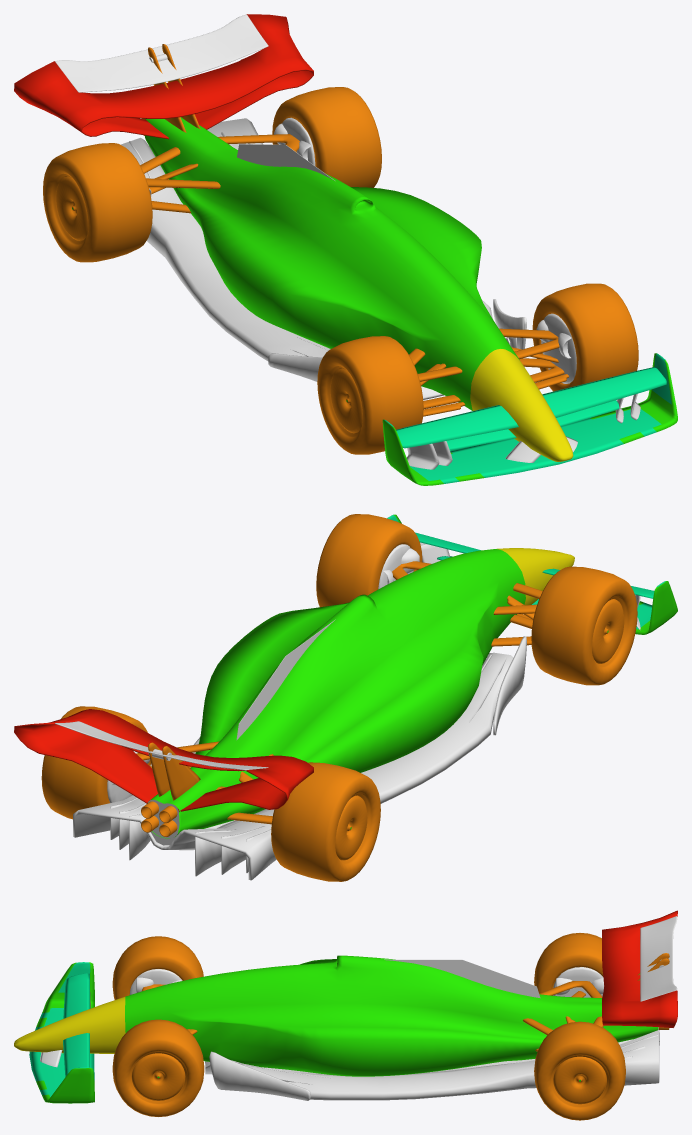
File: Light Car Blockout2 .fbx
The picture shows the model from 3 angles, top to bottom: view 1: azimuth 30°, elevation 25°; view 2: azimuth 150°, elevation 25°; view 3: azimuth 270°, elevation 25°; orthographic projection. The views are drawn at different scales.
Visible parts, largest first — view 1: Body, Wing, Rear Wheel Right, Groundforce Tunnel, Front Wheel Right, Lower wing, Rear Wheel Left, Front Wheel Left, DRS Wing, Uper Wing, Model.030, Barge Boards (+6 smaller); view 2: Body, Wing, Groundforce Tunnel, Front Wheel Right, Rear Wheel Right, Front Wheel Left, Rear Wheel Left, Defuser Planes, SuportStrut, Body Top Fin, Lower wing, DRS Wing (+3 smaller); view 3: Body, Groundforce Tunnel, Rear Wheel Left, Front Wheel Left, Wing, Lower wing, Front Wheel Right, Rear Wheel Right, DRS Wing, Barge Boards, Uper Wing, Body Top Fin (+3 smaller).
Boxes of the visible parts, x1=… form: Body: x1=144, y1=117, x2=573, y2=461; Wing: x1=14, y1=14, x2=313, y2=139; Rear Wheel Right: x1=43, y1=143, x2=152, y2=262; Groundforce Tunnel: x1=121, y1=118, x2=516, y2=399; Front Wheel Right: x1=317, y1=336, x2=423, y2=454; Lower wing: x1=382, y1=353, x2=677, y2=485; Rear Wheel Left: x1=272, y1=87, x2=381, y2=187; Front Wheel Left: x1=532, y1=283, x2=638, y2=391; DRS Wing: x1=55, y1=14, x2=268, y2=92; Uper Wing: x1=396, y1=367, x2=666, y2=448; Model.030: x1=140, y1=134, x2=299, y2=188; Barge Boards: x1=268, y1=299, x2=526, y2=381; Body: x1=147, y1=548, x2=574, y2=838; Wing: x1=14, y1=709, x2=313, y2=811; Groundforce Tunnel: x1=73, y1=652, x2=513, y2=880; Front Wheel Right: x1=531, y1=566, x2=637, y2=685; Rear Wheel Right: x1=271, y1=762, x2=380, y2=881; Front Wheel Left: x1=316, y1=514, x2=422, y2=607; Rear Wheel Left: x1=41, y1=706, x2=150, y2=819; Defuser Planes: x1=110, y1=797, x2=271, y2=876; SuportStrut: x1=148, y1=742, x2=200, y2=800; Body Top Fin: x1=236, y1=619, x2=335, y2=740; Lower wing: x1=387, y1=514, x2=677, y2=634; DRS Wing: x1=55, y1=721, x2=268, y2=770; Body: x1=14, y1=955, x2=658, y2=1076; Groundforce Tunnel: x1=205, y1=1027, x2=659, y2=1100; Rear Wheel Left: x1=534, y1=1021, x2=625, y2=1120; Front Wheel Left: x1=112, y1=1019, x2=204, y2=1116; Wing: x1=602, y1=910, x2=677, y2=1027; Lower wing: x1=29, y1=962, x2=94, y2=1103; Front Wheel Right: x1=112, y1=936, x2=203, y2=999; Rear Wheel Right: x1=534, y1=933, x2=603, y2=993; DRS Wing: x1=640, y1=916, x2=677, y2=1001; Barge Boards: x1=209, y1=1051, x2=310, y2=1100; Uper Wing: x1=63, y1=973, x2=89, y2=1076; Body Top Fin: x1=384, y1=959, x2=540, y2=998.
Bounding box in the file's own units: 2.47 × 1.18 × 6.17.
